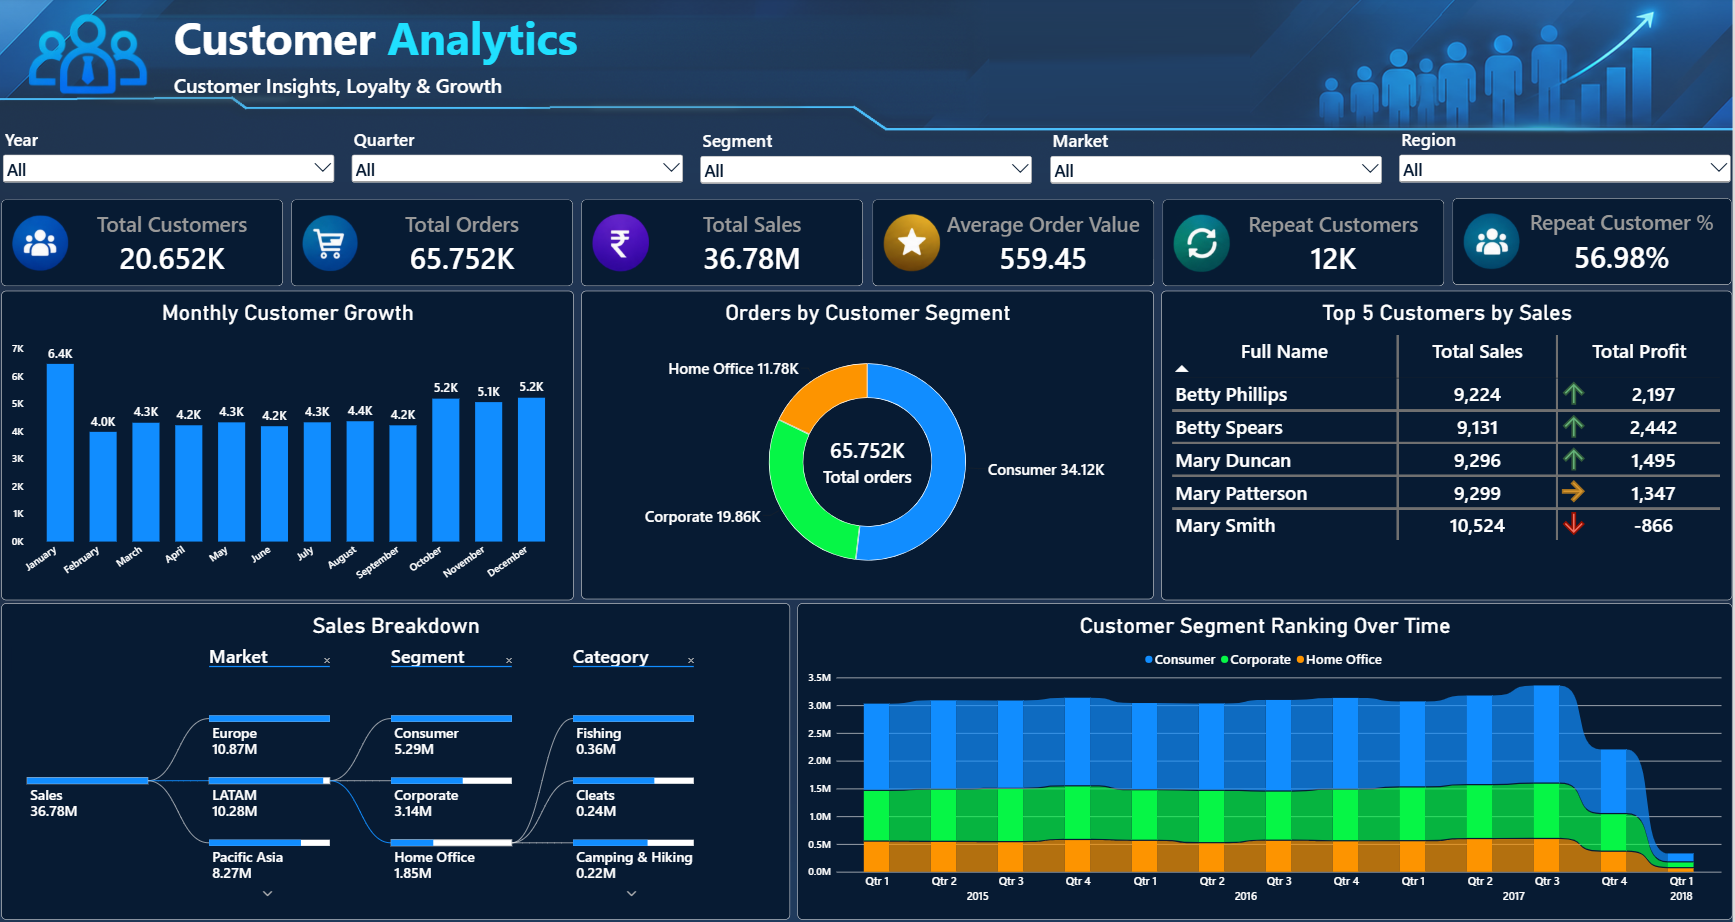

The dashboard page shown, as its layout file describes it:
{"tool":"powerbi","page":{"name":"Page 2","canvas":[2800,1500],"ordinal":1},"visuals":[{"type":"cardVisual","fields":{"Data":["Count(gold fact_order_items.customer_id)"]},"box":[1.9,326.6,455,140],"z":0},{"type":"cardVisual","fields":{"Data":["Count(gold fact_order_items.order_id)"]},"box":[470.8,326.6,455,140],"z":1000},{"type":"cardVisual","fields":{"Data":["Sum(gold fact_order_items.sales)"]},"box":[939.7,326.6,455,140],"z":2000},{"type":"cardVisual","fields":{"Data":["gold fact_order_items.Average Order Value"]},"box":[1408.6,326.6,455,140],"z":3000},{"type":"cardVisual","fields":{"Data":["gold fact_order_items.Repeat Customers"]},"box":[1877.6,326.6,455,140],"z":4000},{"type":"cardVisual","fields":{"Data":["gold fact_order_items.Customer Retention Rate"]},"box":[2346.8,325.6,451,140],"z":5000},{"type":"columnChart","title":"Monthly Customer Growth","fields":{"Category":["gold fact_order_items.calendar_date.Variation.Date Hierarchy.Month"],"Y":["Count(gold fact_order_items.customer_id)"]},"box":[1.5,473.8,924.6,500],"z":6000},{"type":"tableEx","title":"Top 5 Customers by Sales","fields":{"Values":["gold fact_order_items.full_name","Sum(gold fact_order_items.sales)","Sum(gold fact_order_items.profit)"]},"box":[1875.4,473.8,922,500],"z":7000},{"type":"donutChart","title":"Orders by Customer Segment","fields":{"Y":["Count(gold fact_order_items.order_id)"],"Category":["gold fact_order_items.segment"]},"box":[939,474.6,924.9,498.8],"z":8000},{"type":"ribbonChart","title":"Customer Segment Ranking Over Time","fields":{"Category":["gold fact_order_items.calendar_date.Variation.Date Hierarchy.Year","gold fact_order_items.calendar_date.Variation.Date Hierarchy.Quarter"],"Y":["Sum(gold fact_order_items.sales)"],"Series":["gold fact_order_items.segment"]},"box":[1287.5,978.8,1510,511.2],"z":9000},{"type":"slicer","fields":{"Values":["gold fact_order_items.calendar_date.Variation.Date Hierarchy.Year"]},"box":[0,210.1,545,115],"z":10000},{"type":"slicer","fields":{"Values":["gold fact_order_items.segment"]},"box":[1127.6,212.6,545,115],"z":11000},{"type":"slicer","fields":{"Values":["gold fact_order_items.calendar_date.Variation.Date Hierarchy.Quarter"]},"box":[563.5,210.1,545,115],"z":12000},{"type":"slicer","fields":{"Values":["gold fact_order_items.market"]},"box":[1691.6,212.6,545,115],"z":13000},{"type":"slicer","fields":{"Values":["gold fact_order_items.region"]},"box":[2255,210.1,545,115],"z":14000},{"type":"textbox","box":[280.7,15.7,658.3,115.1],"z":15000},{"type":"image","box":[2,16.2,281,150],"z":16000},{"type":"textbox","box":[280.7,121.2,571.5,58.6],"z":17000},{"type":"decompositionTreeVisual","title":"Sales Breakdown","fields":{"Analyze":["Sum(gold fact_order_items.sales)"],"ExplainBy":["gold fact_order_items.market","gold fact_order_items.segment","gold fact_order_items.category_name"]},"box":[2.2,979.1,1274.3,511.3],"z":18000}]}

Visuals, with their boxes in screenshot pixels (x1, y1, x2, y2), scaled from the page's 2800x1500 canvas onto the 1735x922 screenshot:
cardVisual - Count(gold fact_order_items.customer_id): bbox=(1, 201, 283, 287)
cardVisual - Count(gold fact_order_items.order_id): bbox=(292, 201, 574, 287)
cardVisual - Sum(gold fact_order_items.sales): bbox=(582, 201, 864, 287)
cardVisual - gold fact_order_items.Average Order Value: bbox=(873, 201, 1155, 287)
cardVisual - gold fact_order_items.Repeat Customers: bbox=(1163, 201, 1445, 287)
cardVisual - gold fact_order_items.Customer Retention Rate: bbox=(1454, 200, 1734, 286)
"Monthly Customer Growth" columnChart: bbox=(1, 291, 574, 599)
"Top 5 Customers by Sales" tableEx: bbox=(1162, 291, 1733, 599)
"Orders by Customer Segment" donutChart: bbox=(582, 292, 1155, 598)
"Customer Segment Ranking Over Time" ribbonChart: bbox=(798, 602, 1733, 916)
slicer - gold fact_order_items.calendar_date.Variation.Date Hierarchy.Year: bbox=(0, 129, 338, 200)
slicer - gold fact_order_items.segment: bbox=(699, 131, 1036, 201)
slicer - gold fact_order_items.calendar_date.Variation.Date Hierarchy.Quarter: bbox=(349, 129, 687, 200)
slicer - gold fact_order_items.market: bbox=(1048, 131, 1386, 201)
slicer - gold fact_order_items.region: bbox=(1397, 129, 1734, 200)
textbox: bbox=(174, 10, 582, 80)
image: bbox=(1, 10, 175, 102)
textbox: bbox=(174, 74, 528, 111)
"Sales Breakdown" decompositionTreeVisual: bbox=(1, 602, 791, 916)
